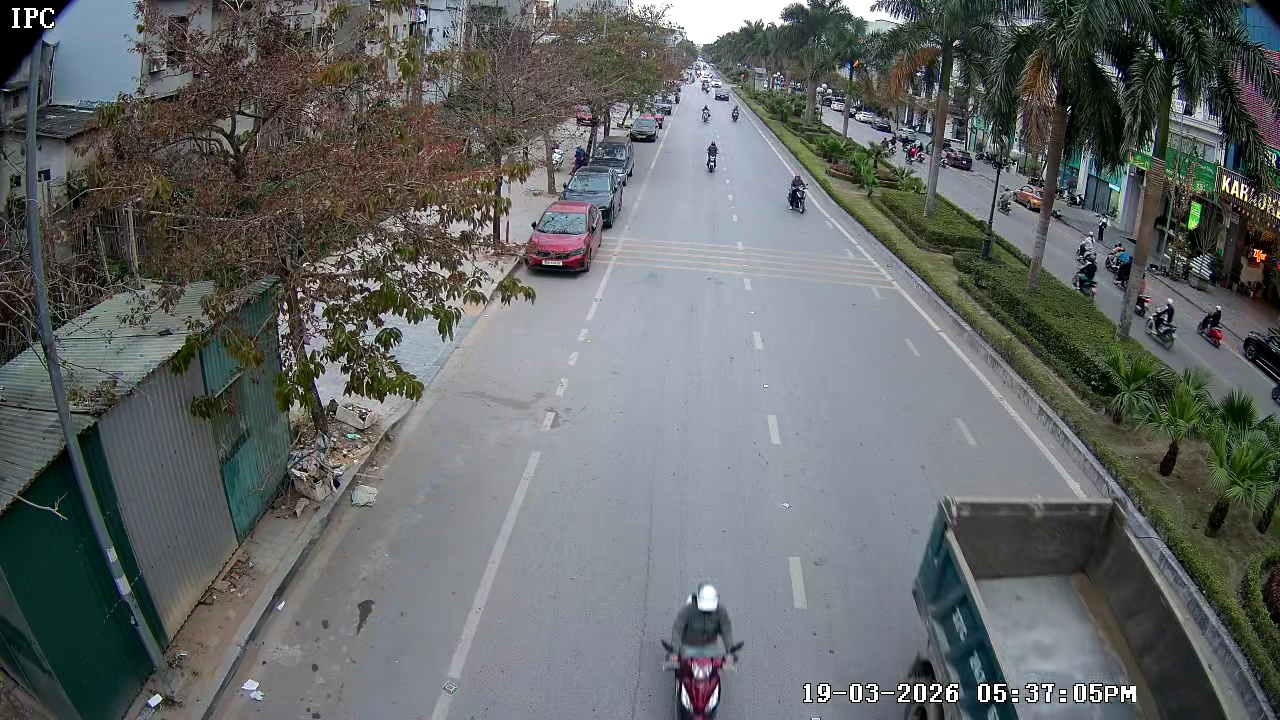car: (524, 200, 599, 276)
motorbike: (652, 574, 757, 719), (1072, 236, 1101, 306), (783, 170, 811, 213), (706, 141, 720, 173), (702, 105, 711, 125), (733, 108, 742, 125)
